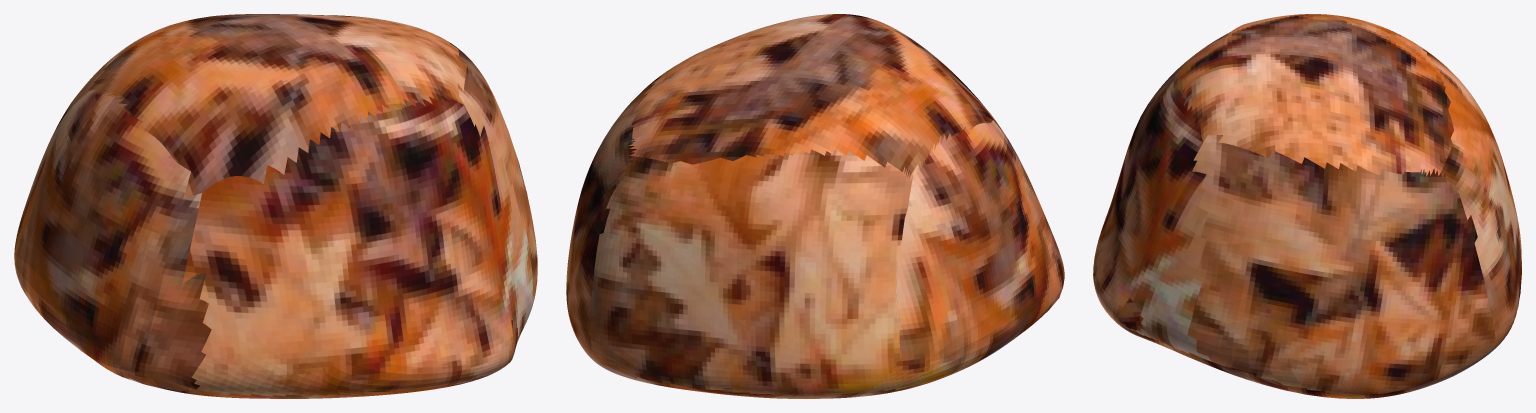
Rendered from leafpile.fbx.
3 renders of one model, left to right at view 1: azimuth 30°, elevation 25°; view 2: azimuth 150°, elevation 25°; view 3: azimuth 270°, elevation 25°, orthographic. The views are drawn at different scales.
Parts seen in each view (by area): view 1: Cube; view 2: Cube; view 3: Cube.
Boxes of the visible parts, x1,y1,x2,y2 form: Cube: (14,14,537,398); Cube: (566,14,1064,398); Cube: (1093,14,1521,398).
Size of the model in its own units: 536 by 373 by 522.
1 material, 1 textured.
